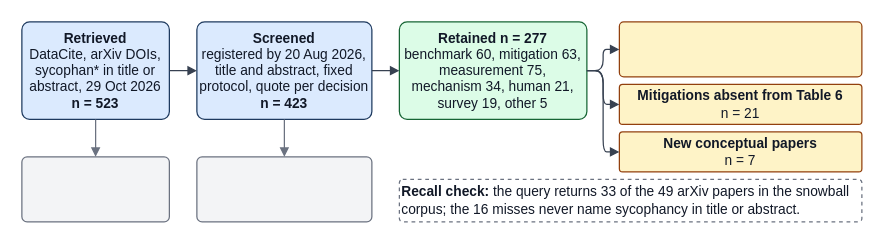
Image size: 884x244. Some labels were removed from this diagram. Each missing label, with the centre of its shape:
"Dedicated instruments n = 44 (34 not in the submitted tables)" belongs at pixel 740 49.
"Excluded n = 146 passing mention 141, non-AI 3, other 2" belongs at pixel 284 189.
"Registered after 20 Aug 2026 n = 100" belongs at pixel 95 189.
